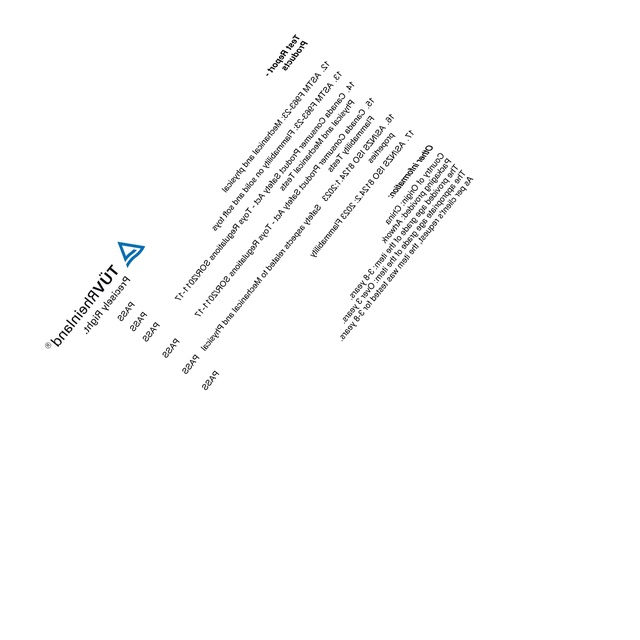tuv_rheinland: (41, 234, 148, 353)
